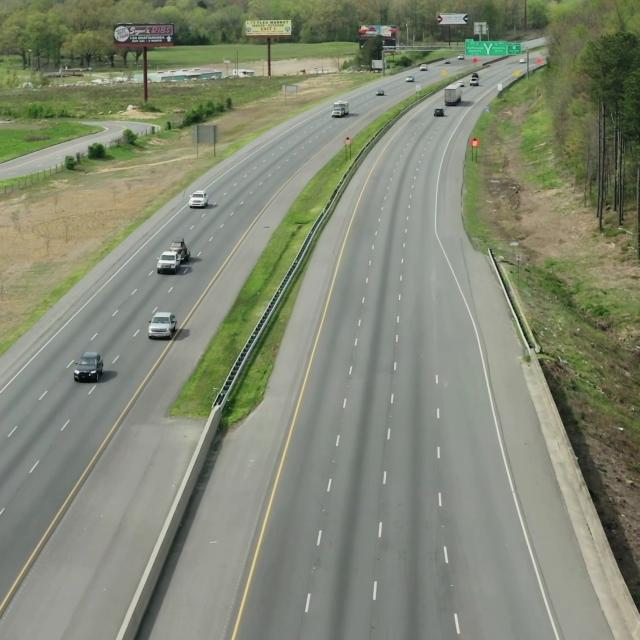Car: (156, 234, 192, 280), (72, 349, 106, 383), (147, 308, 179, 344), (187, 186, 212, 212)
